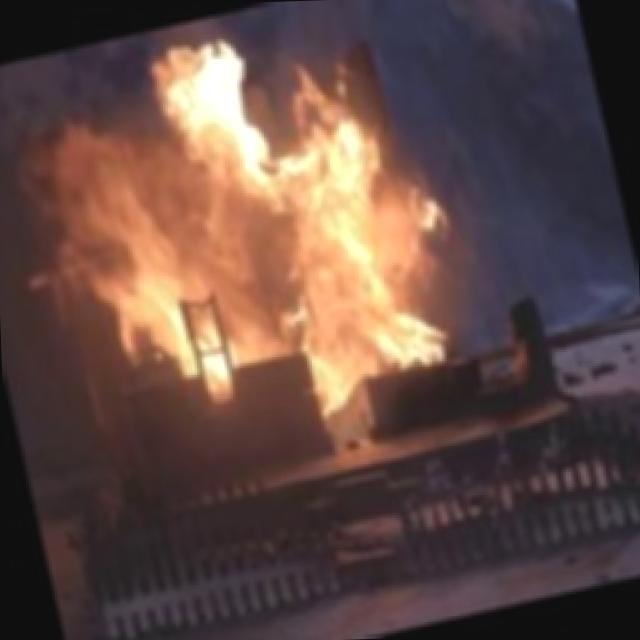fire: (0, 0, 506, 483)
